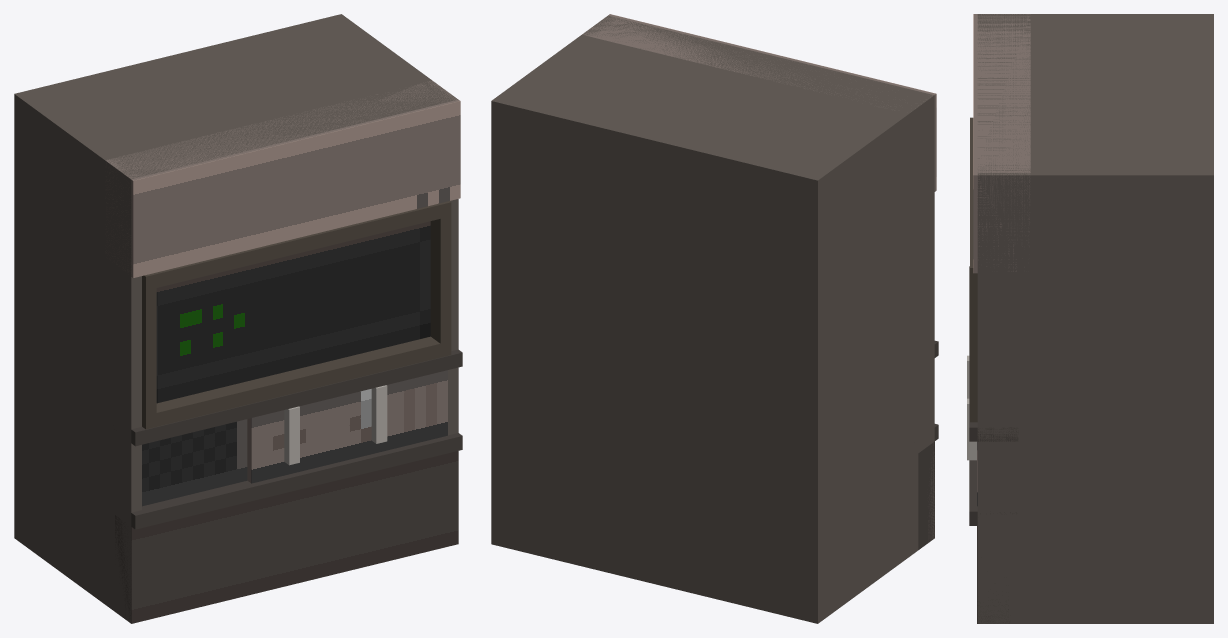
File: CMU3DSensorComputerWideCloud.glb
3 views of the same model, side by side, from view 1: azimuth 30°, elevation 25°; view 2: azimuth 150°, elevation 25°; view 3: azimuth 270°, elevation 25° (orthographic).
Visible parts, largest first — view 1: full depth left chassis, cabinet roof, upper blank metal panel original face, wide sensor CRT recessed inset original face, bottom service enclosure original face, dual switch fascia original face, wide sensor CRT lower frame, upper blank metal panel, lower speaker grille original face, control lower frame, control upper frame, wide sensor CRT upper frame (+6 smaller); view 2: rear cabinet wall, full depth left chassis, cabinet roof, full depth right chassis, upper blank metal panel, bottom service enclosure; view 3: full depth right chassis, cabinet roof, upper blank metal panel, rear cabinet wall, full depth left chassis, wide sensor CRT right frame, wide sensor CRT upper frame, control upper frame, control lower frame.
Part boxes in pixels (bbox=[...]): full depth left chassis: bbox=[14, 91, 141, 623]; cabinet roof: bbox=[32, 22, 446, 176]; upper blank metal panel original face: bbox=[133, 101, 460, 277]; wide sensor CRT recessed inset original face: bbox=[156, 221, 430, 403]; bottom service enclosure original face: bbox=[131, 451, 458, 623]; dual switch fascia original face: bbox=[251, 370, 447, 483]; wide sensor CRT lower frame: bbox=[142, 336, 451, 429]; upper blank metal panel: bbox=[105, 80, 459, 277]; lower speaker grille original face: bbox=[142, 419, 247, 506]; control lower frame: bbox=[131, 433, 462, 529]; control upper frame: bbox=[131, 349, 462, 446]; wide sensor CRT upper frame: bbox=[142, 201, 451, 290]; rear cabinet wall: bbox=[502, 98, 813, 621]; full depth left chassis: bbox=[807, 92, 934, 623]; cabinet roof: bbox=[509, 18, 923, 172]; full depth right chassis: bbox=[491, 15, 618, 546]; upper blank metal panel: bbox=[582, 14, 936, 191]; bottom service enclosure: bbox=[918, 442, 934, 549]; full depth right chassis: bbox=[977, 170, 1213, 623]; cabinet roof: bbox=[977, 19, 1199, 169]; upper blank metal panel: bbox=[974, 14, 1030, 273]; rear cabinet wall: bbox=[1199, 19, 1213, 169]; full depth left chassis: bbox=[977, 14, 1213, 19]; wide sensor CRT right frame: bbox=[970, 282, 977, 408]; wide sensor CRT upper frame: bbox=[970, 117, 977, 281]; control upper frame: bbox=[969, 266, 1018, 441]; control lower frame: bbox=[969, 460, 1016, 525].
Bounding box in the file's own units: 0.9375 × 1.22 × 0.606.
13 materials, 5 textured.
